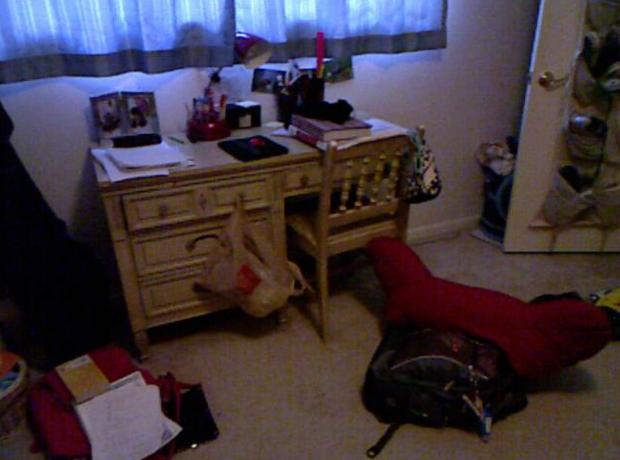cabinetDoor: (140, 192, 265, 213), (145, 232, 270, 253), (148, 282, 232, 303), (281, 169, 319, 190)
chair: (288, 124, 424, 335)
table: (121, 136, 291, 328)
